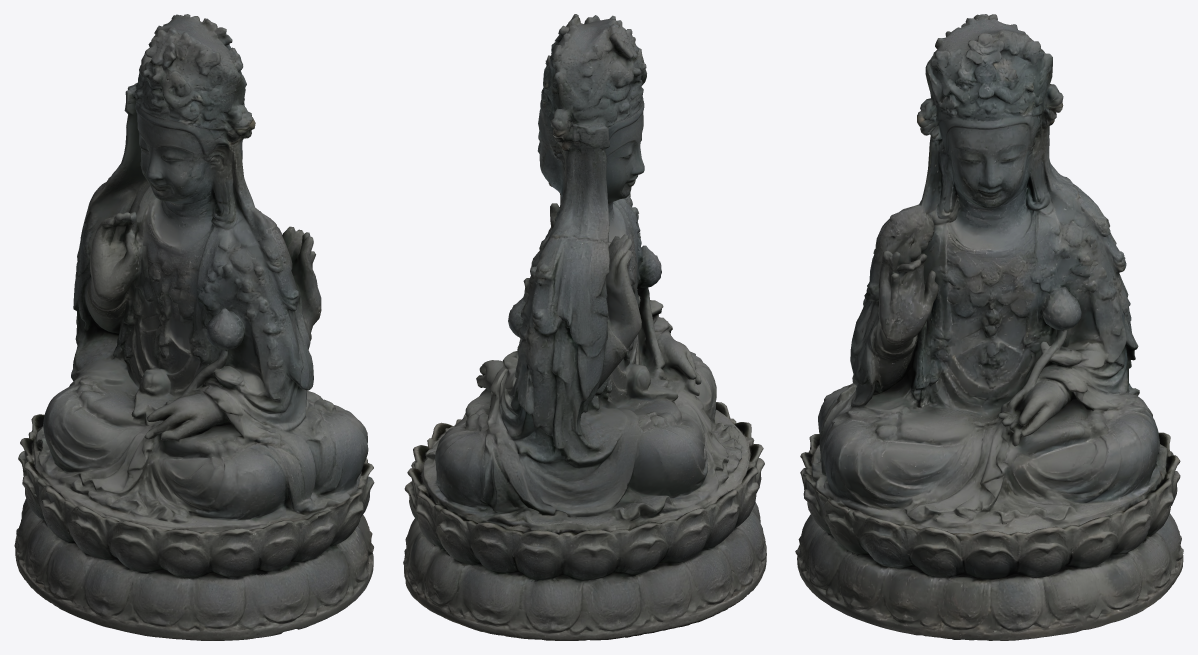
The picture shows the model from 3 angles, left to right: view 1: azimuth 30°, elevation 25°; view 2: azimuth 150°, elevation 25°; view 3: azimuth 270°, elevation 25°; orthographic projection.
Visible parts, largest first — view 1: tripo_node_020770f1-c905-4c62-8ff7-26bba1d09557; view 2: tripo_node_020770f1-c905-4c62-8ff7-26bba1d09557; view 3: tripo_node_020770f1-c905-4c62-8ff7-26bba1d09557.
Boxes of the visible parts, x1,y1,x2,y2 form: tripo_node_020770f1-c905-4c62-8ff7-26bba1d09557: (14, 14, 374, 640); tripo_node_020770f1-c905-4c62-8ff7-26bba1d09557: (403, 14, 766, 640); tripo_node_020770f1-c905-4c62-8ff7-26bba1d09557: (795, 14, 1183, 640).
Bounding box in the file's own units: 0.5917 × 1 × 0.6504.
Materials: 1 (1 with a texture image).
